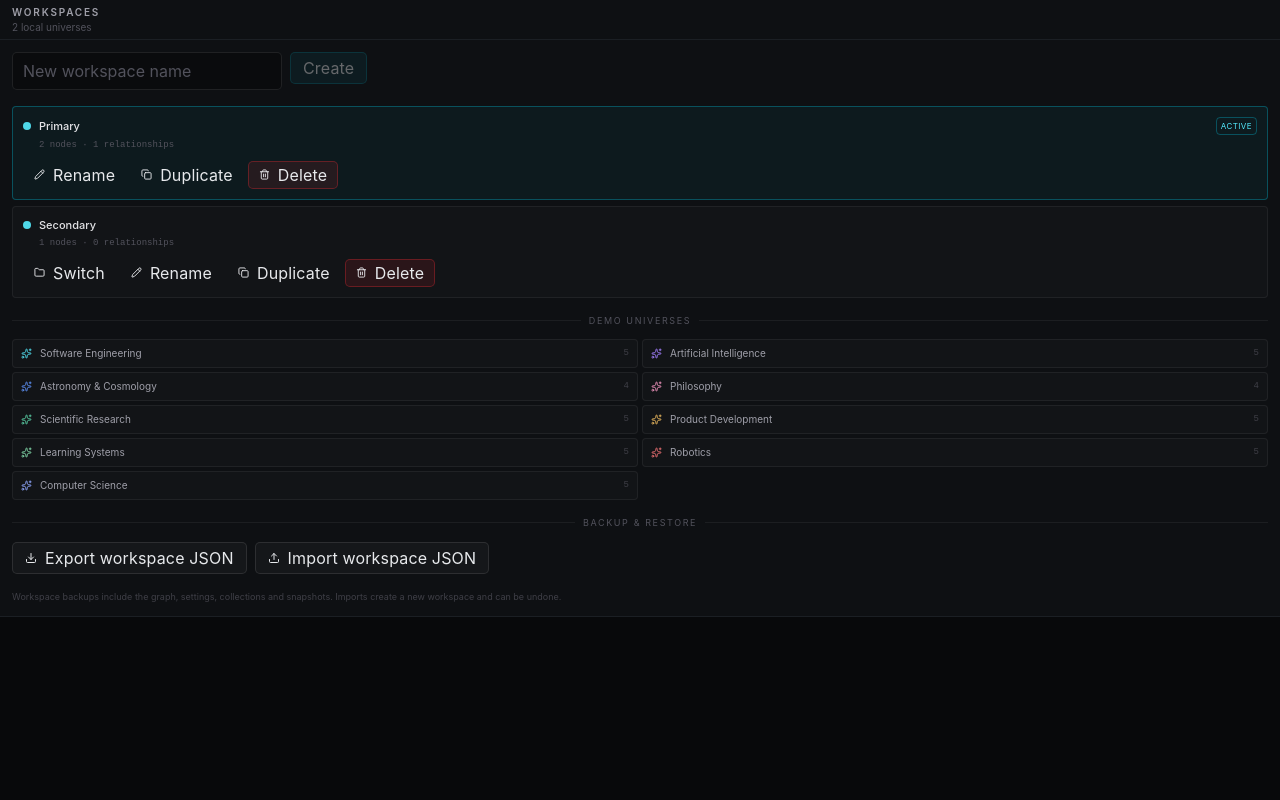
Test case: WorkspacePanel › renames a workspace inline
The width and height of the screenshot is (1280, 800).
Click the button "Rename" below "Secondary" at [171, 272], box x1=120 y1=258 x2=223 y2=286
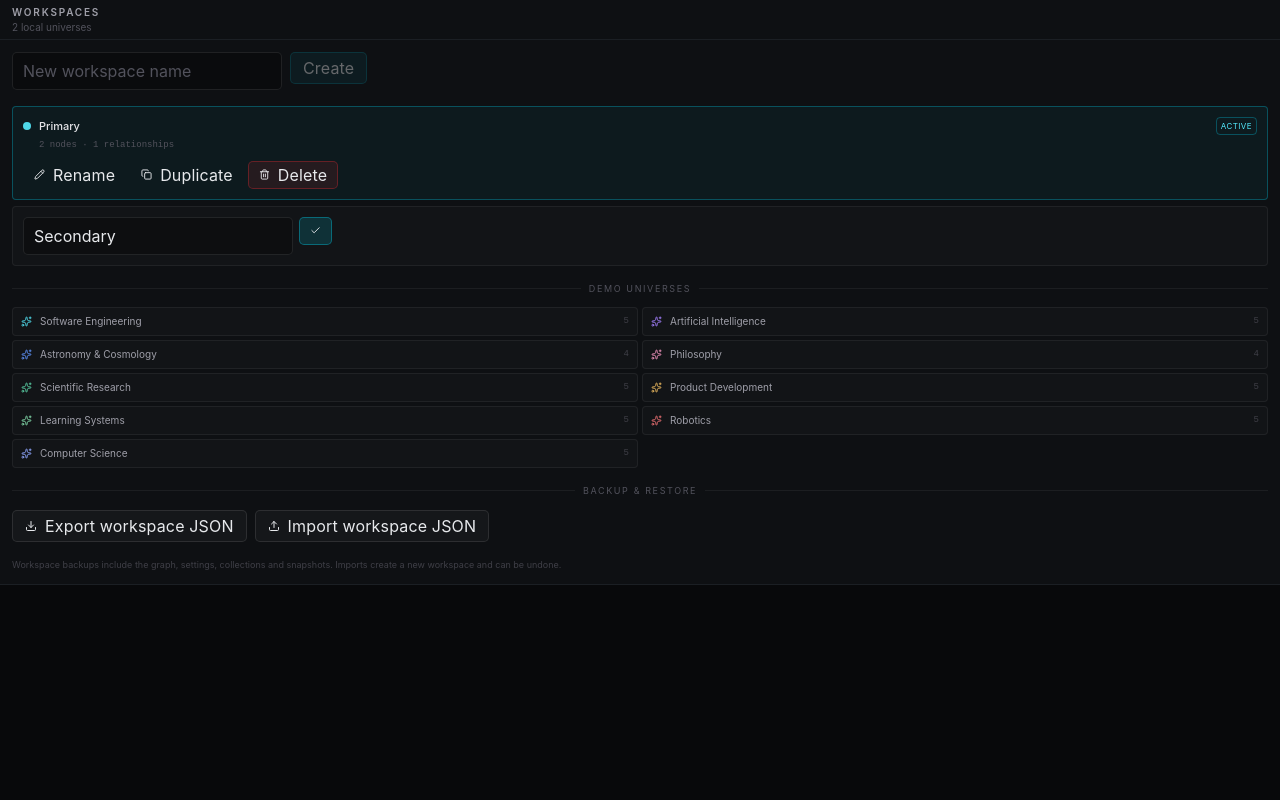
Expected: the field named "Workspace name" holds "Secondary"
Replace the text in the field named "Workspace name" with "Renamed universe" at [158, 236], box x1=23 y1=216 x2=293 y2=254
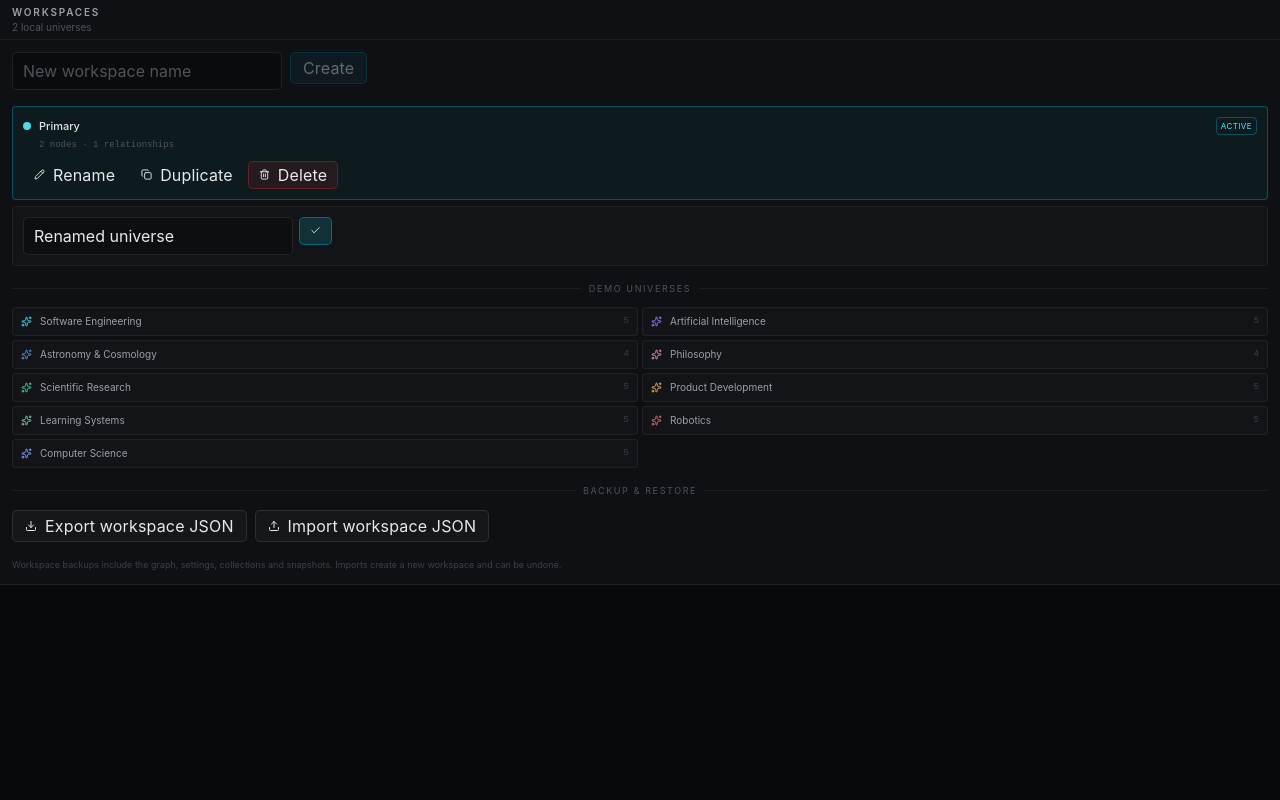
Press Enter in the field named "Workspace name", box x1=23 y1=216 x2=293 y2=254
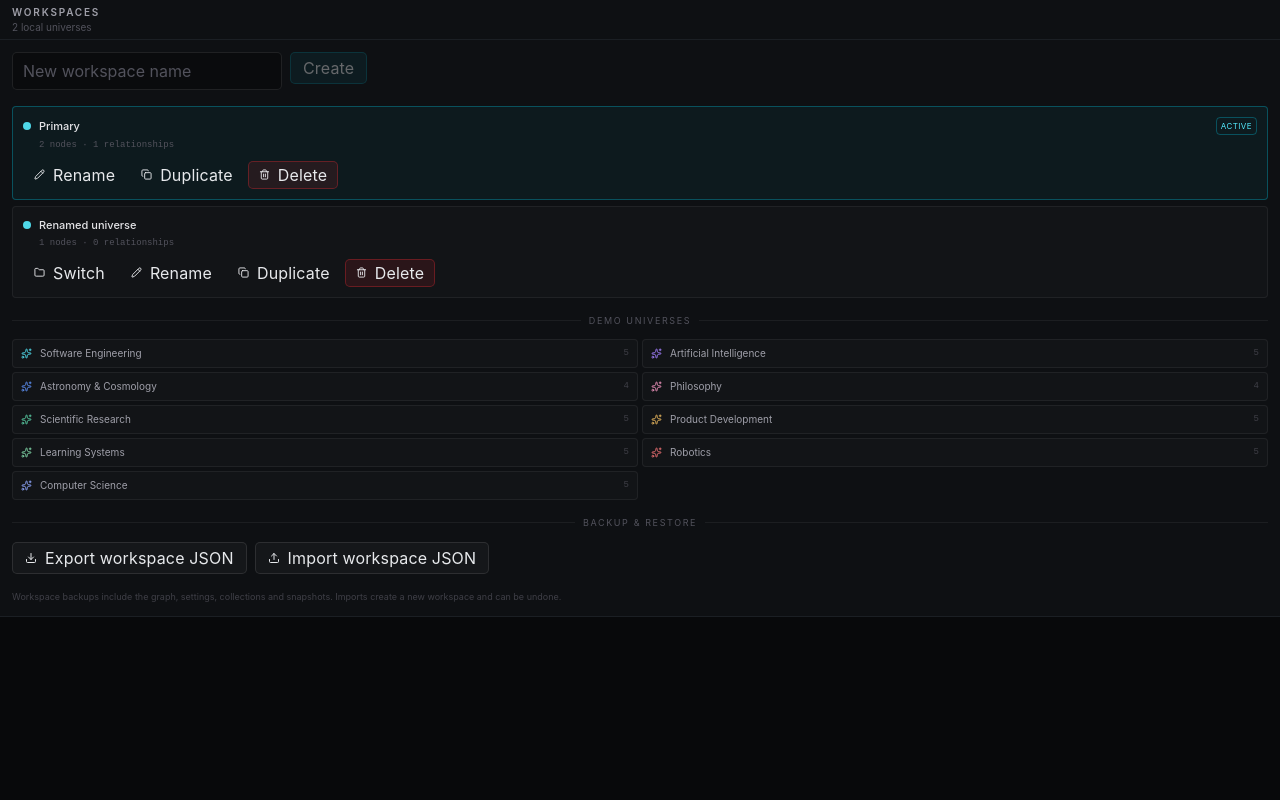
Expected: the text "Renamed universe" is shown, x1=39 y1=218 x2=136 y2=232
